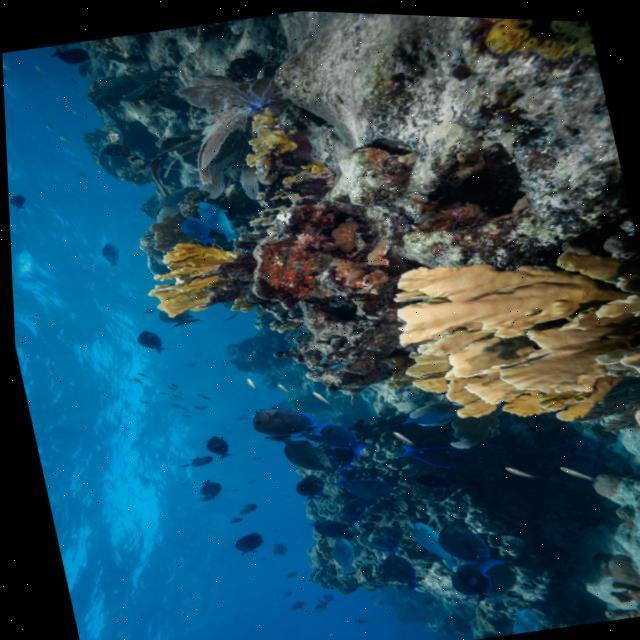Healthy Coral: (368, 227, 640, 436), (139, 230, 239, 318)
